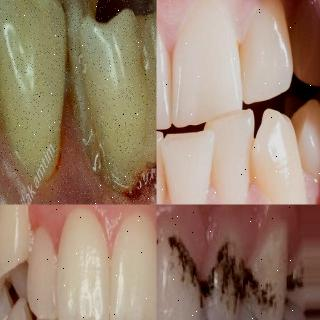cavities: (57, 0, 157, 199)
maligned: (172, 3, 244, 135), (250, 106, 318, 204), (206, 109, 264, 205), (163, 124, 217, 204), (289, 0, 320, 86), (0, 205, 35, 269), (3, 245, 34, 299), (0, 300, 42, 319)
stains: (167, 237, 200, 296), (210, 246, 234, 308), (240, 268, 277, 307), (288, 262, 314, 300)
